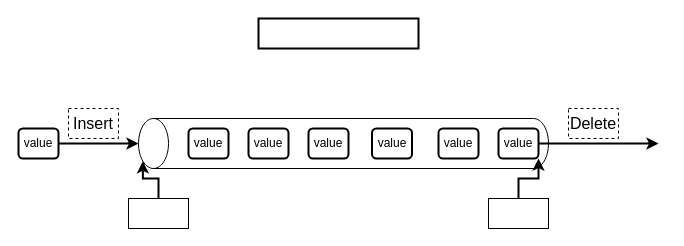
Image size: 684x246. Some labels were removed from this diagram. Here are the shapes that lost their labels. From the top down, the centre of each, then its label:
At [338,33]: "FIFO".
At [158,213]: "Head".
At [518,213]: "Tail".
